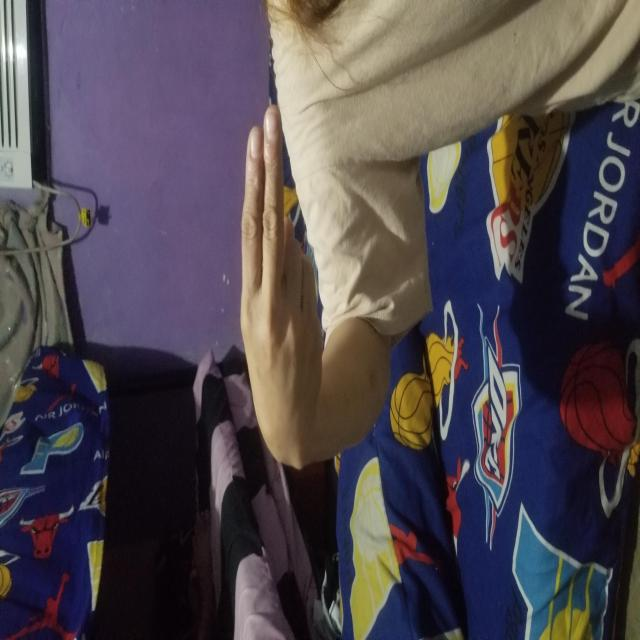H: (210, 240, 539, 323)
